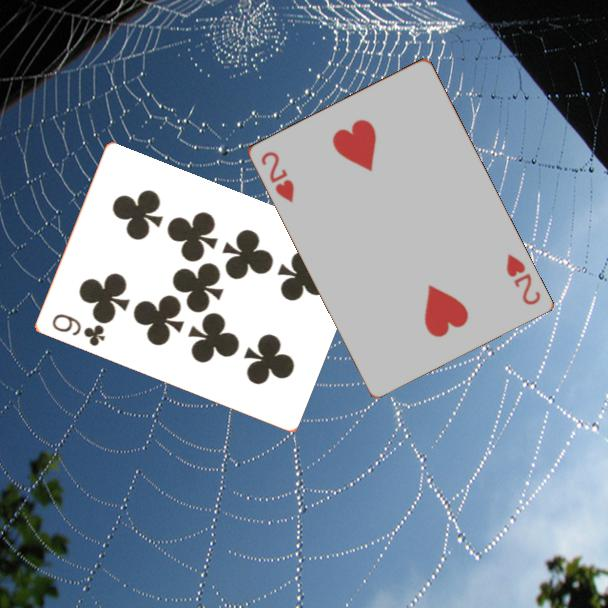c09: (48, 310, 108, 349)
h02: (502, 250, 543, 308), (257, 148, 297, 206)
